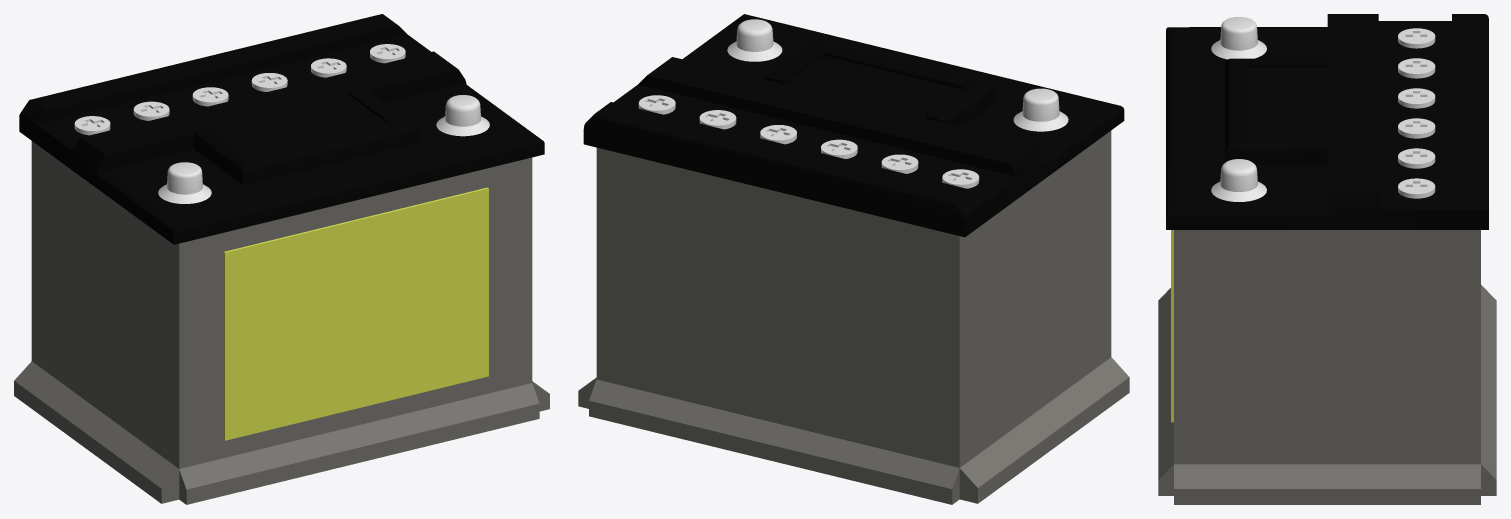
File: batre.fbx
The picture shows the model from 3 angles, left to right: view 1: azimuth 30°, elevation 25°; view 2: azimuth 150°, elevation 25°; view 3: azimuth 270°, elevation 25°; orthographic projection. The views are drawn at different scales.
Visible parts, largest first — view 1: Battery, Плоскость; view 2: Battery; view 3: Battery, Плоскость.
Boxes of the visible parts, x1,y1,x2,y2 form: Battery: (14, 14, 549, 504); Плоскость: (223, 187, 488, 440); Battery: (578, 14, 1129, 504); Battery: (1158, 14, 1496, 504); Плоскость: (1171, 230, 1173, 422).
Size of the model in its own units: 72.93 by 53.72 by 52.74.
